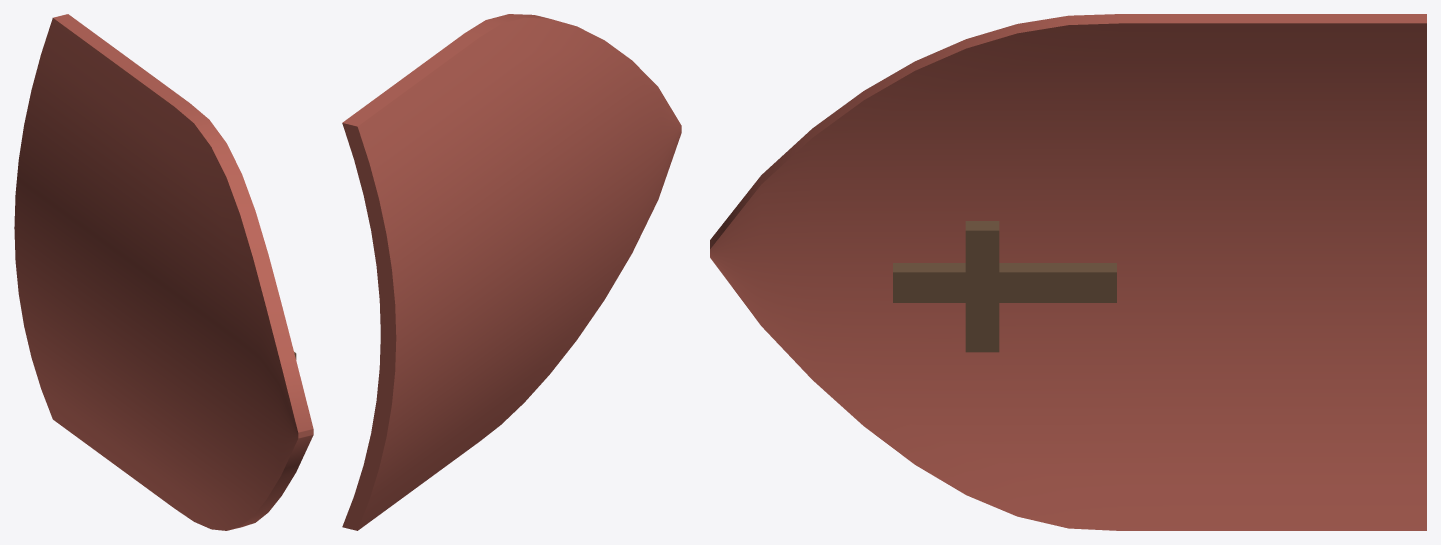
Rendered from heater_shield.glb.
3 views of the same model, side by side, from view 1: azimuth 30°, elevation 25°; view 2: azimuth 150°, elevation 25°; view 3: azimuth 270°, elevation 25° (orthographic). The views are drawn at different scales.
Visible parts, largest first — view 1: heater_shield; view 2: heater_shield; view 3: heater_shield.
Boxes of the visible parts, x1,y1,x2,y2 form: heater_shield: [14, 14, 313, 530]; heater_shield: [342, 14, 681, 530]; heater_shield: [710, 14, 1426, 530].
Size of the model in its own units: 0.1 by 0.5 by 0.64.
